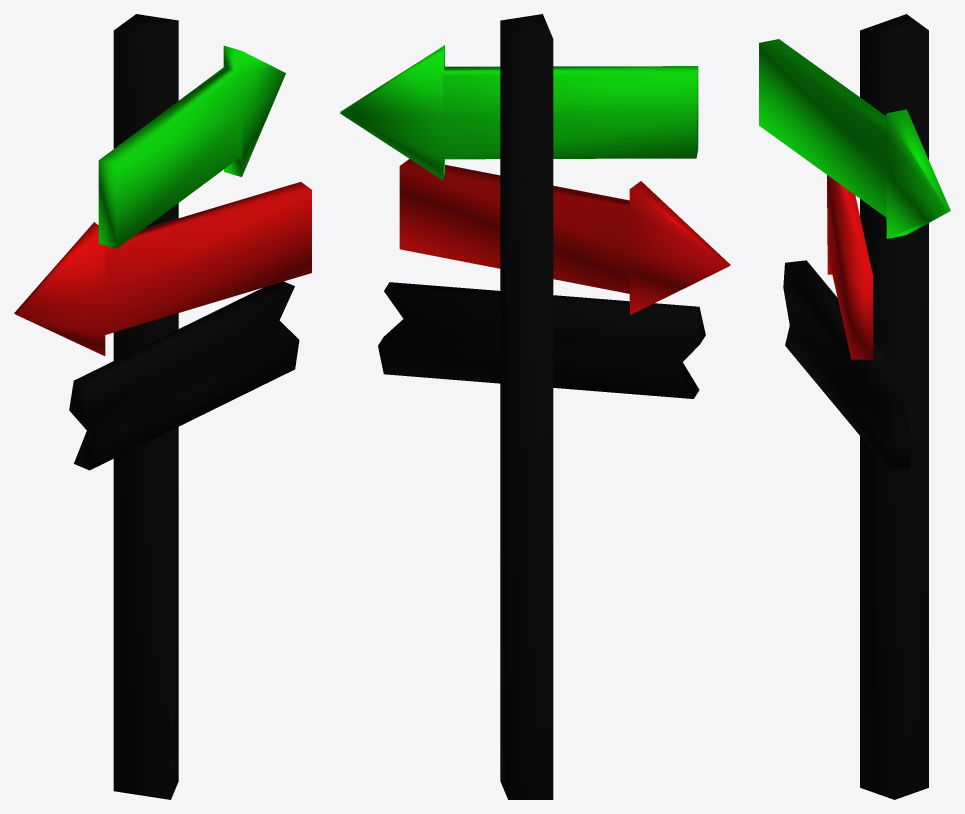
Rendered from SM_Sign_01_LOD2.fbx.
3 views of the same model, side by side, from view 1: azimuth 30°, elevation 25°; view 2: azimuth 150°, elevation 25°; view 3: azimuth 270°, elevation 25° (orthographic).
Visible parts, largest first — view 1: Sign_LOD2; view 2: Sign_LOD2; view 3: Sign_LOD2.
Boxes of the visible parts, box(x1,y1,x2,y2) form: Sign_LOD2: box(14, 14, 311, 799); Sign_LOD2: box(340, 14, 730, 799); Sign_LOD2: box(759, 14, 950, 799).
Bounding box in the file's own units: 120 × 263 × 60.41.
